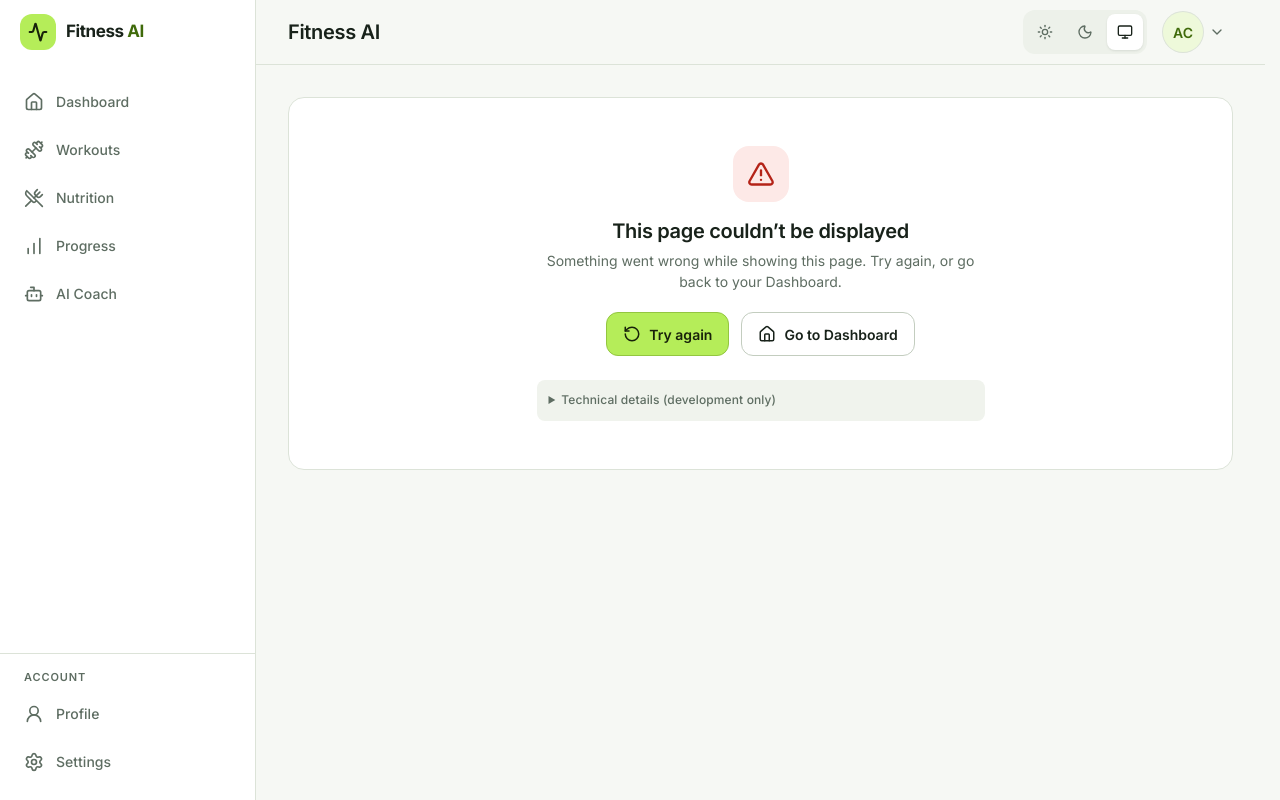
it: route-level error isolation › a crashing page shows a fallback inside the shell; navigation keeps working
Expected: the message "This page couldn’t be displayed" is shown, [288,97,1233,470]
Expected: the heading "This page couldn’t be displayed" is shown, [612,219,909,243]
// Navigate with the real sidebar link: the error clears and the new page renders.
Click the link "Workouts": point(72, 150) [24,140,120,160]
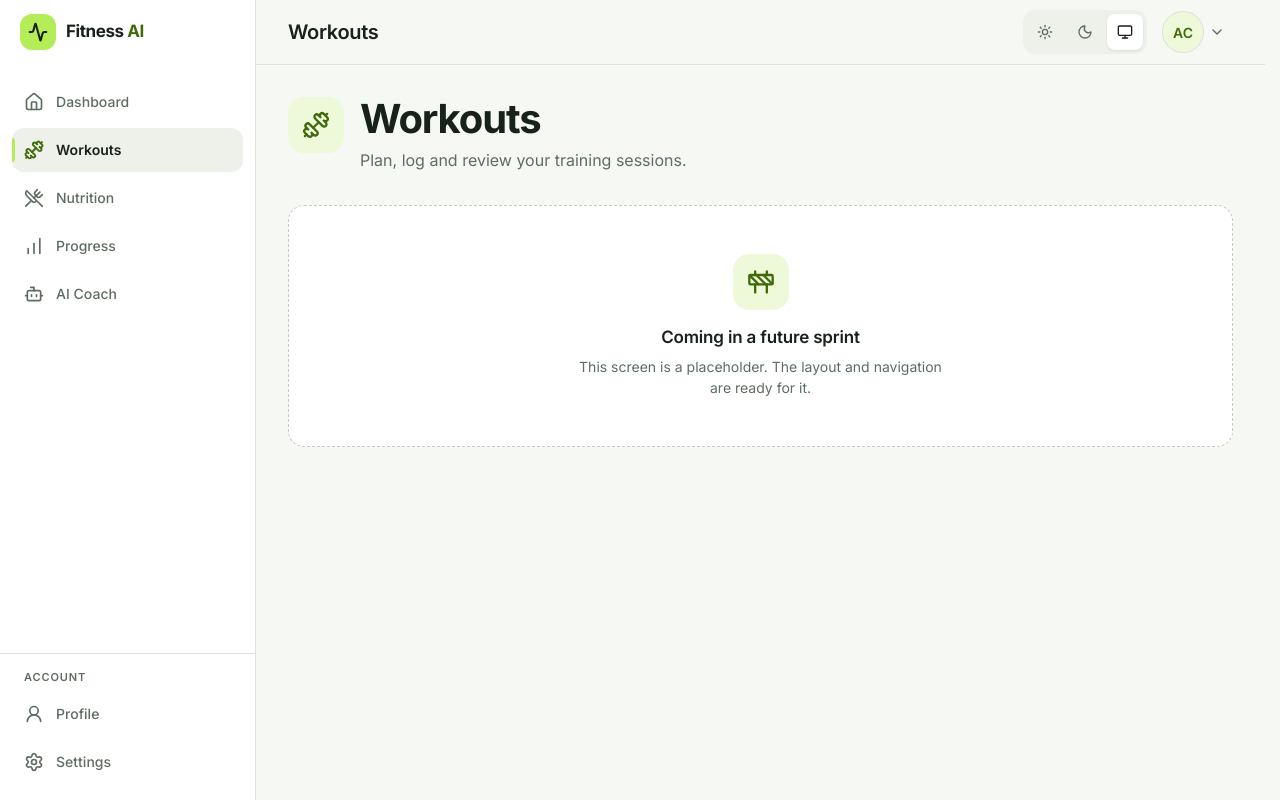
Now the heading "Workouts" is shown, box [360,94,540,143]
Now the message is gone
